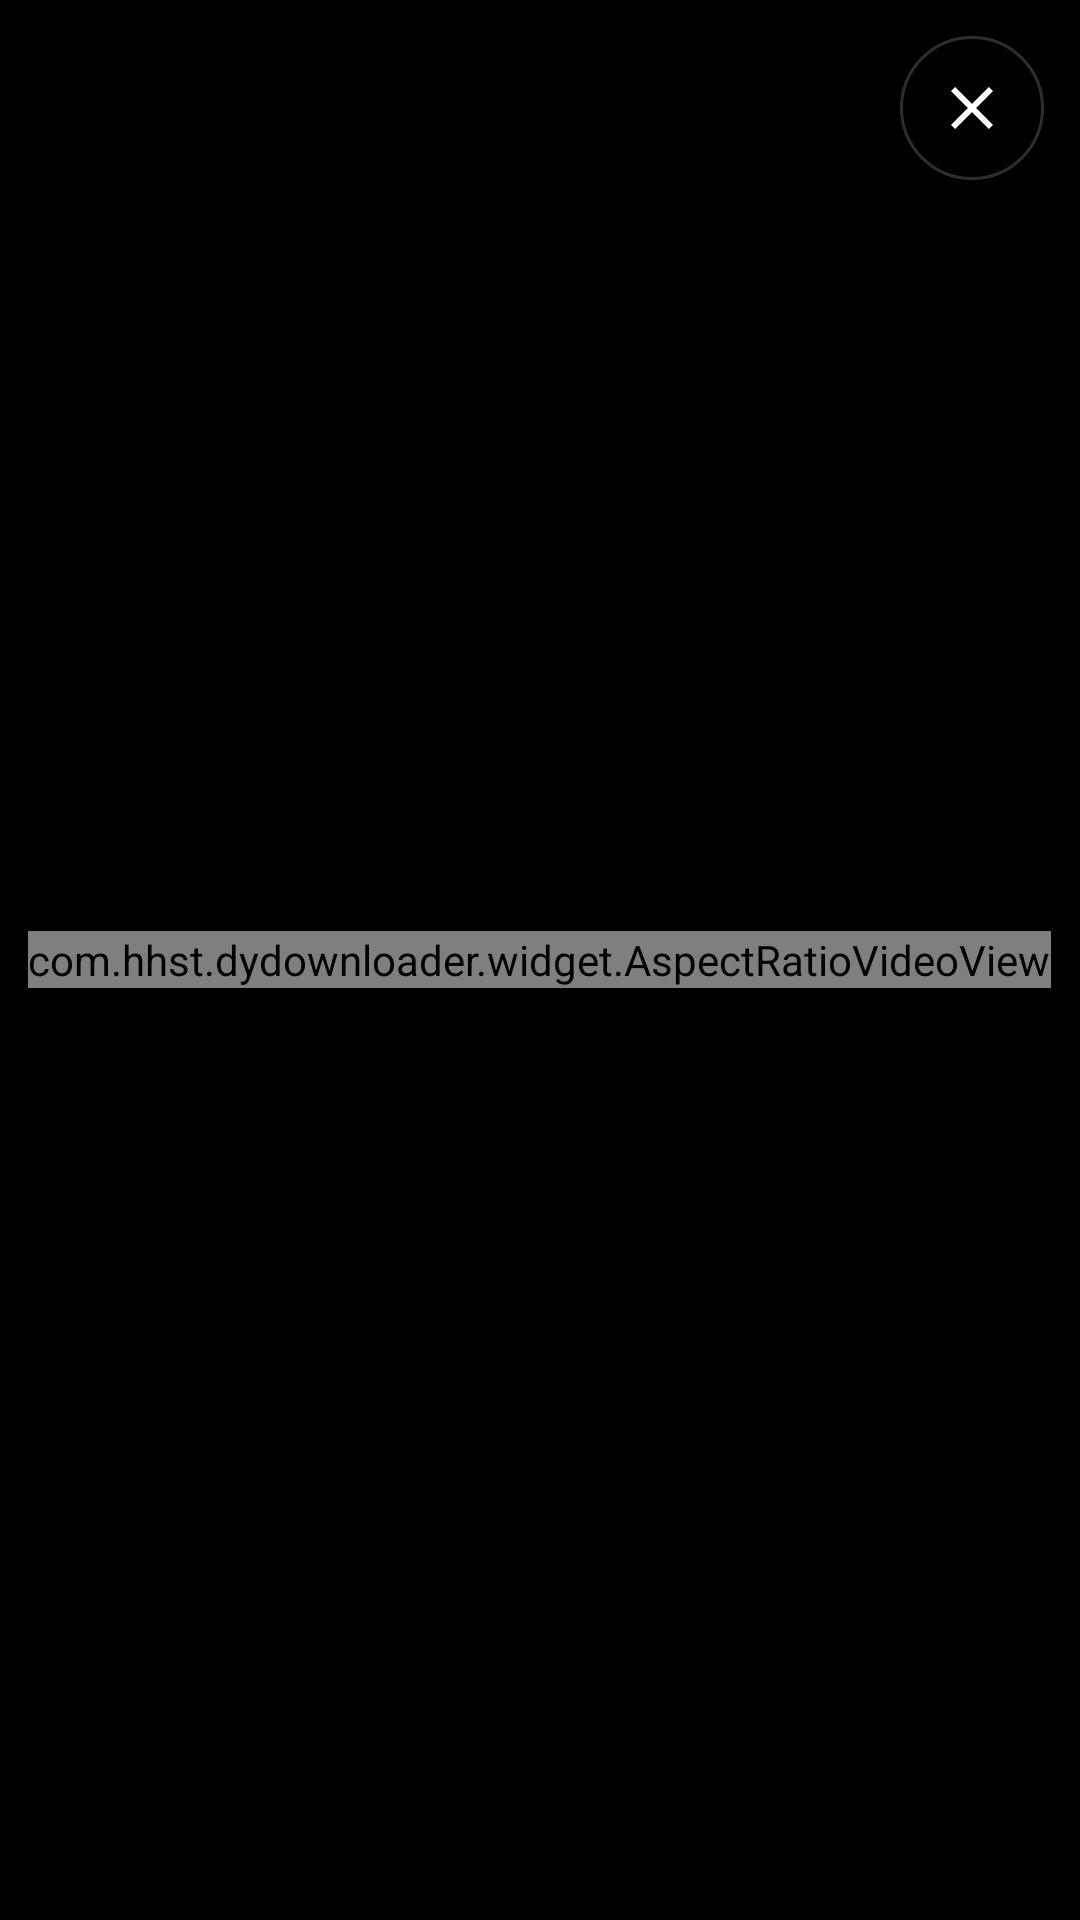

Where icons sit on this 1080px x 1920px app screen, as (left=x1, top=y1, right=x2, bottom=y2):
Cancel: (left=900, top=36, right=1044, bottom=180)
